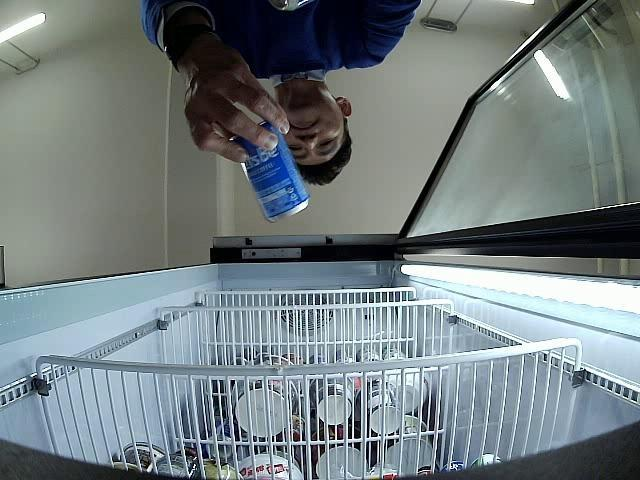15_letsbe: (235, 122, 309, 224)
